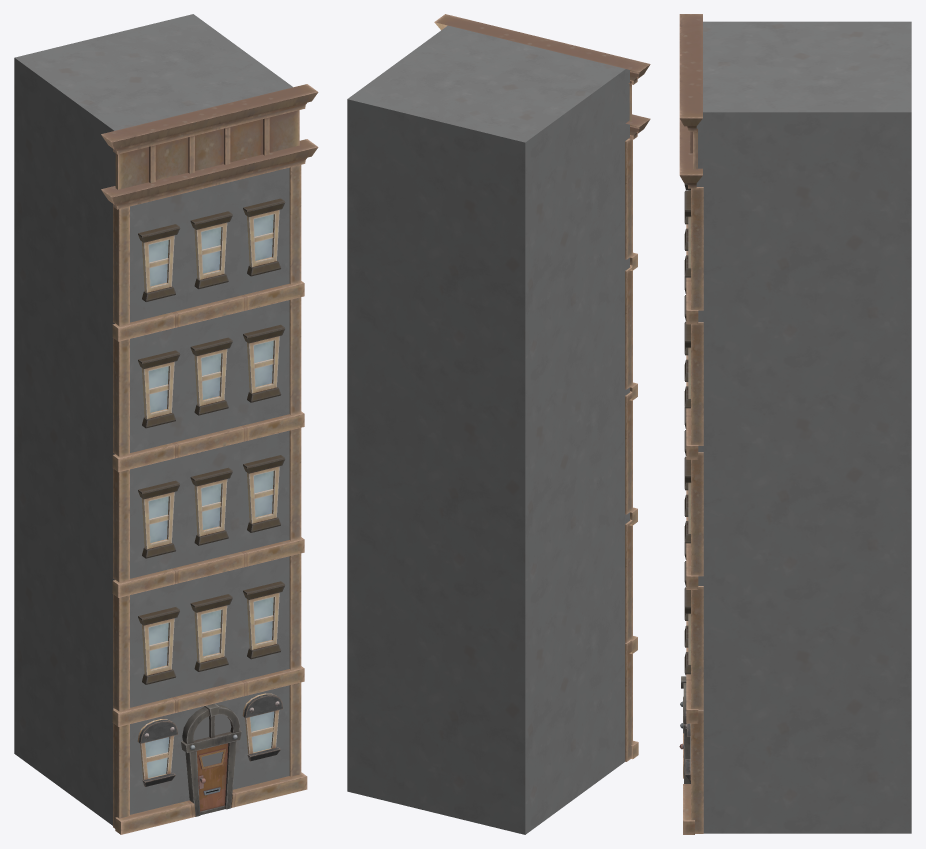
Rendered from Ev_Tallbuilding_2_ad.fbx.
3 renders of one model, left to right at view 1: azimuth 30°, elevation 25°; view 2: azimuth 150°, elevation 25°; view 3: azimuth 270°, elevation 25°, orthographic. The views are drawn at different scales.
Visible parts, largest first — view 1: Object058, Object055, Object057, Object056, Object054, P_Frame_076, P_Door_005, P_Frame_074, P_Frame_075, P_Frame_070, P_Frame_073, P_Frame_072 (+24 smaller); view 2: Object058, Object055, Object057, Object056, Object054, P_Frame_076, P_framelong_007, P_framelong_003, P_framelong_009, P_framelong_011, P_framelong_005; view 3: Object058, Object055, Object056, Object057, Object054, P_Frame_076, P_framelong_010, P_framelong_008, P_framelong_002, P_framelong_006, P_framelong_004, P_Door_005 (+2 smaller).
Part boxes in pixels (x1,y1,x2,y2): Object058: (14, 14, 292, 327); Object055: (14, 509, 289, 710); Object057: (14, 256, 289, 454); Object056: (14, 382, 289, 580); Object054: (14, 639, 289, 825); P_Frame_076: (101, 84, 318, 209); P_Door_005: (181, 703, 241, 816); P_Frame_074: (112, 411, 304, 472); P_Frame_075: (112, 281, 304, 341); P_Frame_070: (112, 666, 304, 726); P_Frame_073: (112, 537, 304, 597); P_Frame_072: (115, 772, 307, 834); Object058: (347, 25, 629, 339); Object055: (347, 515, 629, 720); Object057: (347, 263, 629, 465); Object056: (347, 389, 629, 591); Object054: (347, 648, 624, 834); P_Frame_076: (434, 14, 650, 139); P_framelong_007: (625, 391, 632, 514); P_framelong_003: (625, 519, 632, 642); P_framelong_009: (625, 266, 632, 389); P_framelong_011: (625, 138, 632, 259); P_framelong_005: (625, 640, 632, 761); Object058: (696, 21, 911, 317); Object055: (698, 580, 911, 714); Object056: (698, 449, 911, 579); Object057: (698, 318, 911, 448); Object054: (703, 714, 911, 833); P_Frame_076: (679, 14, 702, 188); P_framelong_010: (691, 187, 703, 310); P_framelong_008: (691, 322, 703, 445); P_framelong_002: (691, 586, 703, 709); P_framelong_006: (691, 452, 703, 576); P_framelong_004: (691, 710, 703, 833); P_Door_005: (679, 676, 690, 783).
Size of the model in its own units: 32.62 by 105 by 30.65.
